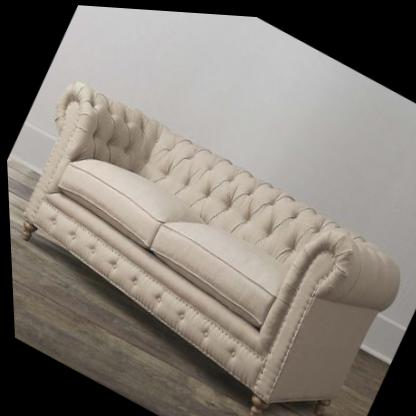Sofa: (2, 65, 416, 416)
